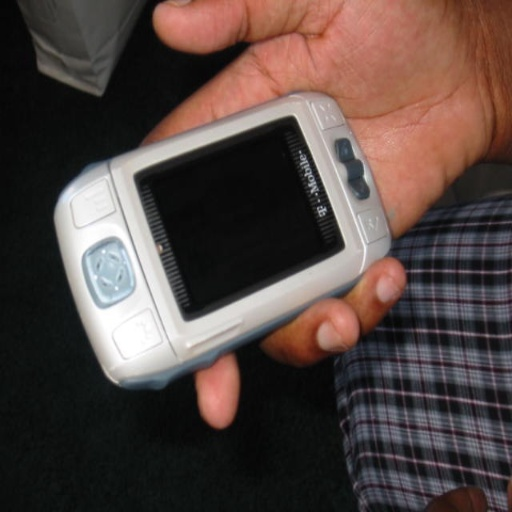hand: (134, 0, 505, 428)
